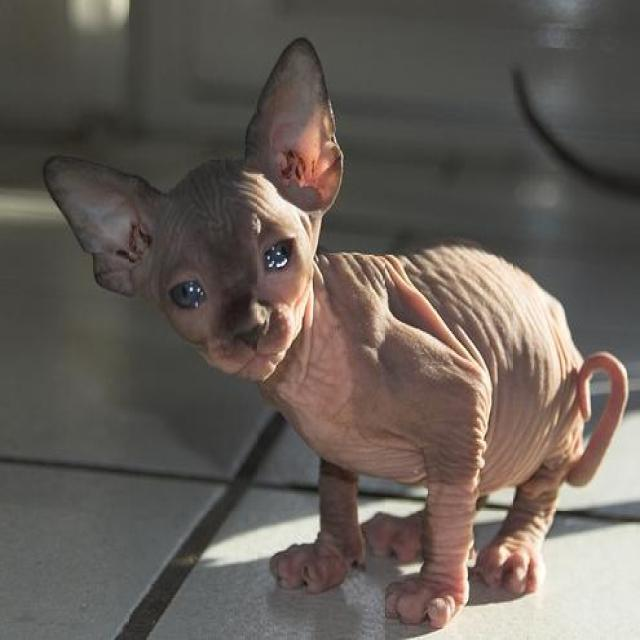Sphynx: (41, 31, 347, 382)
